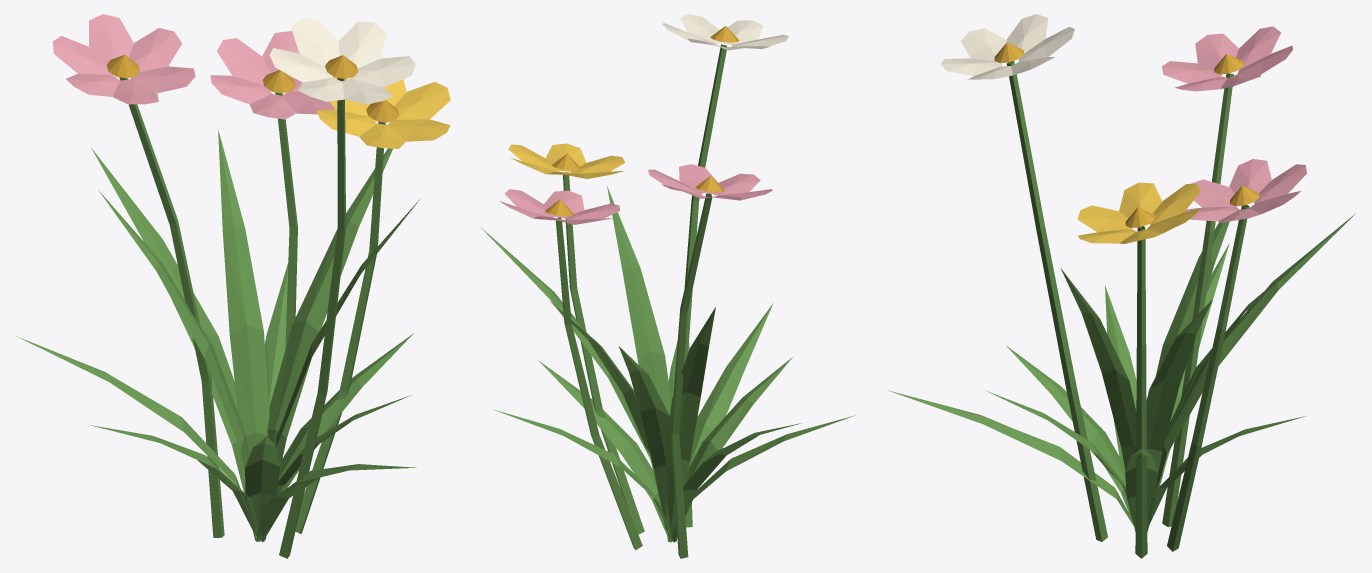
File: flower_mixed.glb
3 views of the same model, side by side, from view 1: azimuth 30°, elevation 25°; view 2: azimuth 150°, elevation 25°; view 3: azimuth 270°, elevation 25° (orthographic). The views are drawn at different scales.
Parts seen in each view (by area): view 1: flower_mixed; view 2: flower_mixed; view 3: flower_mixed.
Part boxes in pixels (left/top/right/bottom): flower_mixed: left=16, top=14, right=450, bottom=558; flower_mixed: left=479, top=14, right=855, bottom=558; flower_mixed: left=888, top=14, right=1355, bottom=558.
Bounding box in the file's own units: 0.2048 × 0.28 × 0.2334.
